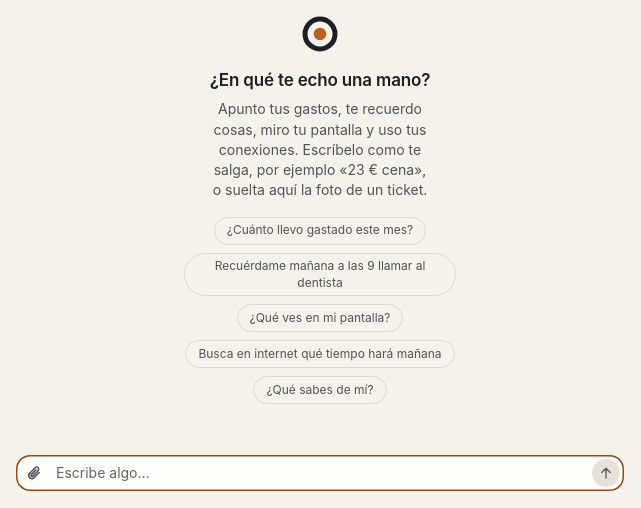
Test: the examples of an empty chat (B23) › fill the composer with what can be asked, and send nothing by themselves
The width and height of the screenshot is (641, 508).
What coordinates should you click on to do the following:
click the button "¿Cuánto llevo gastado este mes?"
I would click on:
 (320, 231)
Its box is left=214, top=217, right=426, bottom=245.
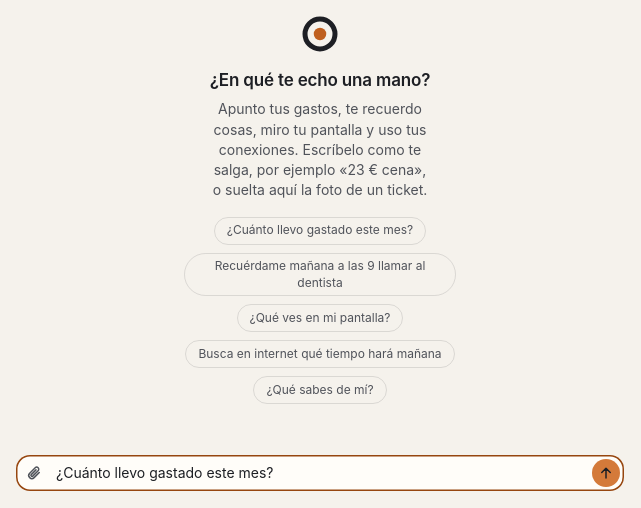
Result: the text box named "Mensaje" holds "¿Cuánto llevo gastado este mes?" at left=52, top=458, right=588, bottom=486
